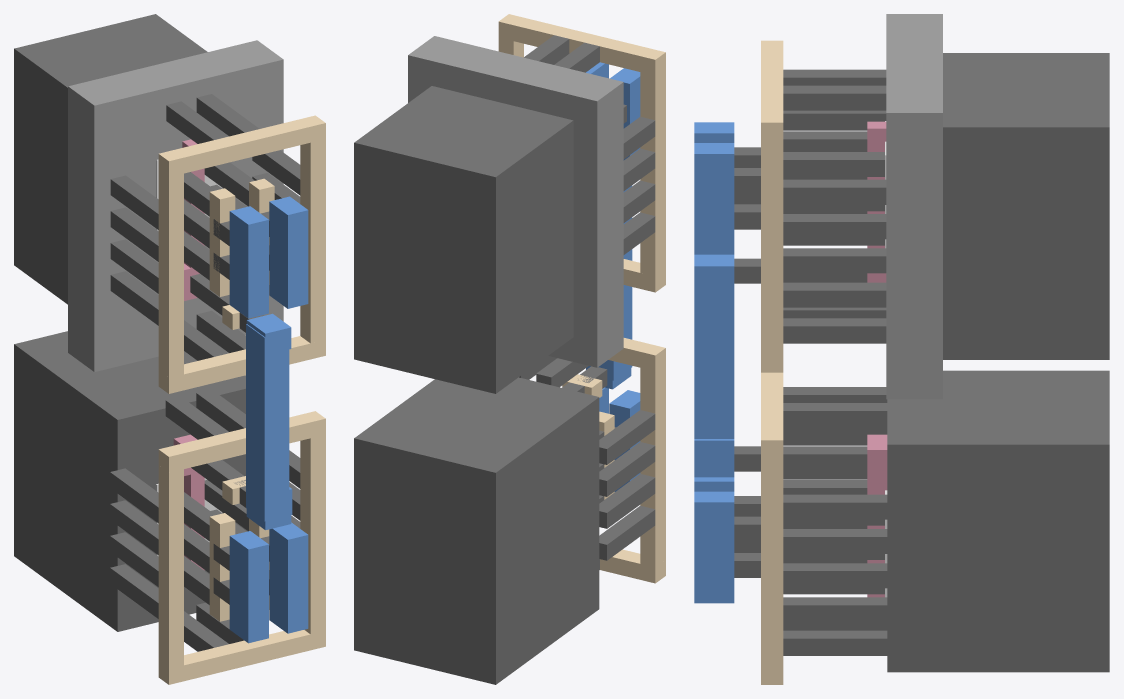
Rendered from latihan2.gds.gltf.
The picture shows the model from 3 angles, left to right: view 1: azimuth 30°, elevation 25°; view 2: azimuth 150°, elevation 25°; view 3: azimuth 270°, elevation 25°; orthographic projection. The views are drawn at different scales.
Parts seen in each view (by area): view 1: sky130_fd_pr__nfet_01v8_64Z3AY_substrate, sky130_fd_pr__pfet_01v8_LGS3BL_nwell, sky130_fd_pr__pfet_01v8_LGS3BL_li1, sky130_fd_pr__pfet_01v8_LGS3BL_substrate, sky130_fd_pr__nfet_01v8_64Z3AY_li1, sky130_fd_pr__pfet_01v8_LGS3BL_licon, sky130_fd_pr__nfet_01v8_64Z3AY_licon, sky130_fd_pr__pfet_01v8_LGS3BL_met1, sky130_fd_pr__nfet_01v8_64Z3AY_met1, inverter_met1, sky130_fd_pr__nfet_01v8_64Z3AY_mcon, sky130_fd_pr__pfet_01v8_LGS3BL_mcon (+2 smaller); view 2: sky130_fd_pr__nfet_01v8_64Z3AY_substrate, sky130_fd_pr__pfet_01v8_LGS3BL_substrate, sky130_fd_pr__pfet_01v8_LGS3BL_nwell, sky130_fd_pr__pfet_01v8_LGS3BL_li1, sky130_fd_pr__nfet_01v8_64Z3AY_licon, sky130_fd_pr__nfet_01v8_64Z3AY_li1, sky130_fd_pr__pfet_01v8_LGS3BL_licon, sky130_fd_pr__nfet_01v8_64Z3AY_met1, sky130_fd_pr__pfet_01v8_LGS3BL_met1, inverter_met1; view 3: sky130_fd_pr__nfet_01v8_64Z3AY_substrate, sky130_fd_pr__pfet_01v8_LGS3BL_substrate, sky130_fd_pr__pfet_01v8_LGS3BL_licon, sky130_fd_pr__nfet_01v8_64Z3AY_licon, sky130_fd_pr__pfet_01v8_LGS3BL_nwell, sky130_fd_pr__pfet_01v8_LGS3BL_li1, inverter_met1, sky130_fd_pr__nfet_01v8_64Z3AY_li1, sky130_fd_pr__pfet_01v8_LGS3BL_met1, sky130_fd_pr__nfet_01v8_64Z3AY_met1, sky130_fd_pr__pfet_01v8_LGS3BL_mcon, sky130_fd_pr__nfet_01v8_64Z3AY_mcon (+2 smaller).
Part boxes in pixels (bbox=[...]): sky130_fd_pr__nfet_01v8_64Z3AY_substrate: bbox=[14, 331, 247, 631]; sky130_fd_pr__pfet_01v8_LGS3BL_nwell: bbox=[68, 40, 283, 371]; sky130_fd_pr__pfet_01v8_LGS3BL_li1: bbox=[158, 115, 325, 393]; sky130_fd_pr__pfet_01v8_LGS3BL_substrate: bbox=[14, 14, 207, 304]; sky130_fd_pr__nfet_01v8_64Z3AY_li1: bbox=[158, 411, 325, 684]; sky130_fd_pr__pfet_01v8_LGS3BL_licon: bbox=[110, 94, 300, 360]; sky130_fd_pr__nfet_01v8_64Z3AY_licon: bbox=[110, 389, 300, 651]; sky130_fd_pr__pfet_01v8_LGS3BL_met1: bbox=[229, 196, 308, 355]; sky130_fd_pr__nfet_01v8_64Z3AY_met1: bbox=[229, 502, 308, 643]; inverter_met1: bbox=[246, 324, 292, 521]; sky130_fd_pr__nfet_01v8_64Z3AY_mcon: bbox=[213, 480, 269, 604]; sky130_fd_pr__pfet_01v8_LGS3BL_mcon: bbox=[213, 211, 269, 332]; sky130_fd_pr__nfet_01v8_64Z3AY_substrate: bbox=[354, 377, 599, 684]; sky130_fd_pr__pfet_01v8_LGS3BL_substrate: bbox=[354, 86, 573, 393]; sky130_fd_pr__pfet_01v8_LGS3BL_nwell: bbox=[408, 36, 623, 367]; sky130_fd_pr__pfet_01v8_LGS3BL_li1: bbox=[498, 14, 665, 292]; sky130_fd_pr__nfet_01v8_64Z3AY_licon: bbox=[519, 356, 655, 569]; sky130_fd_pr__nfet_01v8_64Z3AY_li1: bbox=[562, 338, 665, 583]; sky130_fd_pr__pfet_01v8_LGS3BL_licon: bbox=[524, 35, 655, 254]; sky130_fd_pr__nfet_01v8_64Z3AY_met1: bbox=[586, 365, 640, 491]; sky130_fd_pr__pfet_01v8_LGS3BL_met1: bbox=[586, 62, 640, 160]; inverter_met1: bbox=[586, 185, 632, 380]; sky130_fd_pr__nfet_01v8_64Z3AY_substrate: bbox=[887, 370, 1109, 672]; sky130_fd_pr__pfet_01v8_LGS3BL_substrate: bbox=[943, 53, 1109, 359]; sky130_fd_pr__pfet_01v8_LGS3BL_licon: bbox=[783, 69, 886, 343]; sky130_fd_pr__nfet_01v8_64Z3AY_licon: bbox=[783, 387, 887, 655]; sky130_fd_pr__pfet_01v8_LGS3BL_nwell: bbox=[886, 14, 942, 399]; sky130_fd_pr__pfet_01v8_LGS3BL_li1: bbox=[761, 40, 783, 372]; inverter_met1: bbox=[694, 289, 734, 468]; sky130_fd_pr__nfet_01v8_64Z3AY_li1: bbox=[761, 372, 783, 684]; sky130_fd_pr__pfet_01v8_LGS3BL_met1: bbox=[694, 122, 734, 289]; sky130_fd_pr__nfet_01v8_64Z3AY_met1: bbox=[694, 468, 734, 603]; sky130_fd_pr__pfet_01v8_LGS3BL_mcon: bbox=[734, 147, 760, 283]; sky130_fd_pr__nfet_01v8_64Z3AY_mcon: bbox=[734, 446, 760, 577].
Size of the model in its own units: 2.11 by 5.76 by 3.74.
